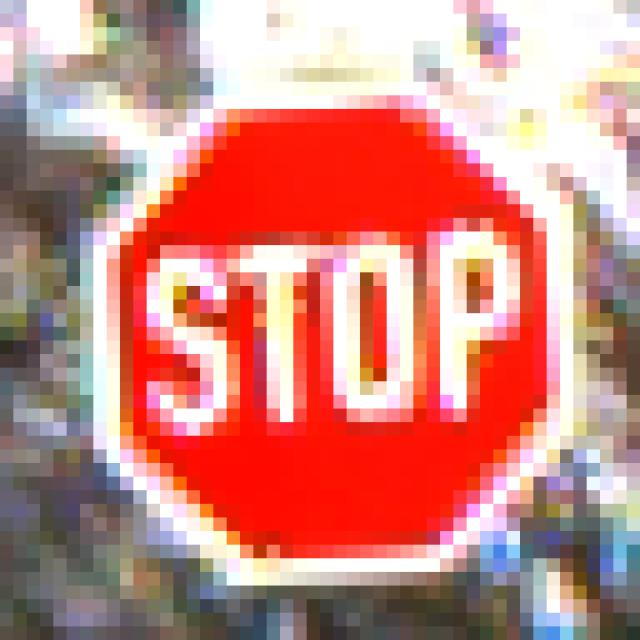STOP: (81, 69, 574, 573)
